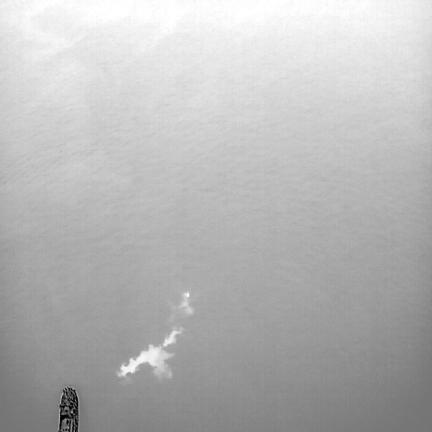flukeprints: (117, 345, 173, 377), (163, 327, 182, 347), (178, 292, 192, 314)
